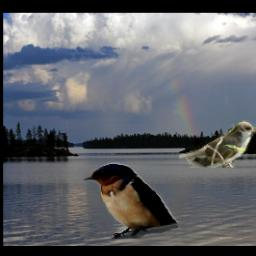Cuckoo: (180, 120, 256, 168)
Swallow: (82, 162, 178, 239)
